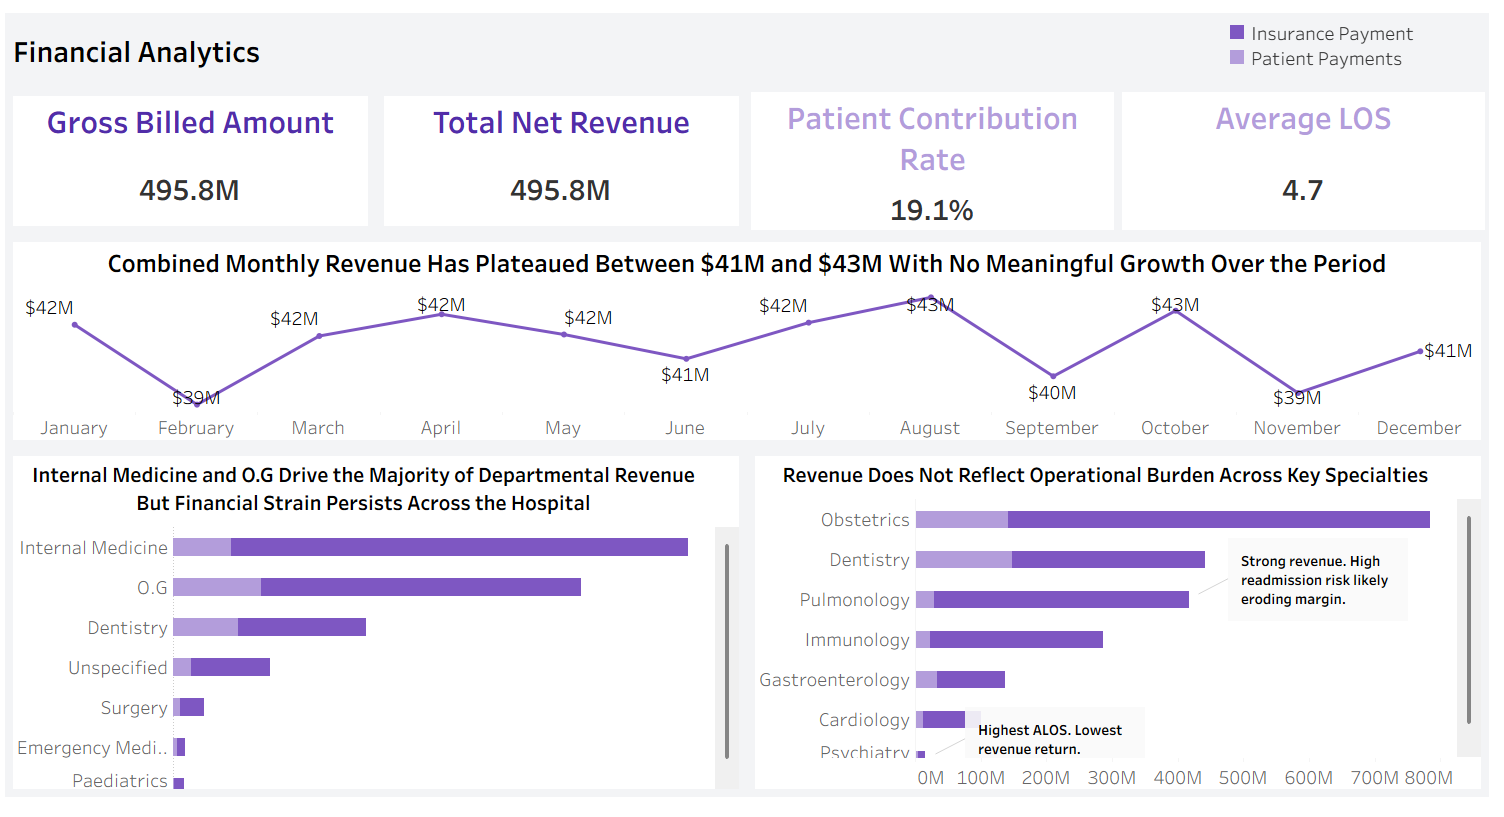

What the dashboard file says about the page in this screenshot:
{"tool":"tableau","page":{"name":"Financial Dashboard","canvas":[1500,800],"ordinal":12},"visuals":[{"type":"text","box":[8,8,1484,75]},{"type":"legend","title":"Department by Payment","param":"[federated.1pkmirb1409dpk1alarye0vm1qvv].[:Measure Names]","box":[1156,15,331,50]},{"type":"worksheet","title":"Finance KPI 1","mark":"Automatic","box":[8,83,371,146]},{"type":"worksheet","title":"Finance KPI 3","mark":"Automatic","box":[379,83,371,146]},{"type":"worksheet","title":"Finance KPI 4","mark":"Automatic","box":[750,83,371,146]},{"type":"worksheet","title":"Finance KPI 2","mark":"Automatic","box":[1121,83,371,146]},{"type":"worksheet","title":"Payment over time","mark":"Line","rows":["total_payments"],"cols":["payment_month"],"box":[8,229,1484,214]},{"type":"worksheet","title":"Department by Payment","mark":"Automatic","rows":["department (v_payer_payment_distribution)"],"box":[8,443,742,349]},{"type":"worksheet","title":"Subspecialty by Payment","mark":"Automatic","rows":["subspecialty (Custom SQL Query1)"],"box":[750,443,742,349]}]}

Visuals, with their boxes in screenshot pixels (x1, y1, x2, y2), scaled from the page's 1500x800 canvas onto the 1504x817 screenshot:
text: select_region(8, 8, 1496, 85)
"Department by Payment" legend: select_region(1159, 15, 1491, 66)
"Finance KPI 1" worksheet: select_region(8, 85, 380, 234)
"Finance KPI 3" worksheet: select_region(380, 85, 752, 234)
"Finance KPI 4" worksheet: select_region(752, 85, 1124, 234)
"Finance KPI 2" worksheet: select_region(1124, 85, 1496, 234)
"Payment over time" worksheet (Line marks): select_region(8, 234, 1496, 452)
"Department by Payment" worksheet: select_region(8, 452, 752, 809)
"Subspecialty by Payment" worksheet: select_region(752, 452, 1496, 809)
